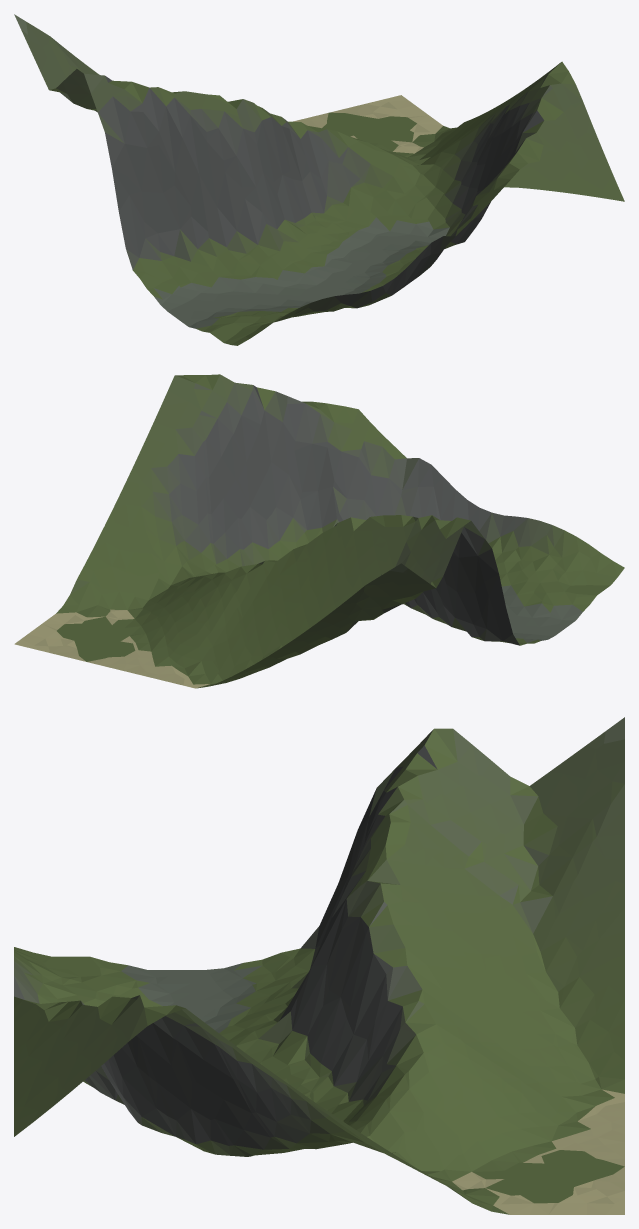
The model's file is Ground_-3_-5.glb.
3 renders of one model, top to bottom at view 1: azimuth 30°, elevation 25°; view 2: azimuth 150°, elevation 25°; view 3: azimuth 270°, elevation 25°, orthographic. The views are drawn at different scales.
Visible parts, largest first — view 1: Ground_-3_-5; view 2: Ground_-3_-5; view 3: Ground_-3_-5.
Boxes of the visible parts, bbox=[...] form: Ground_-3_-5: bbox=[14, 14, 624, 345]; Ground_-3_-5: bbox=[14, 374, 624, 688]; Ground_-3_-5: bbox=[14, 717, 624, 1214].
Size of the model in its own units: 768 by 351 by 768.
